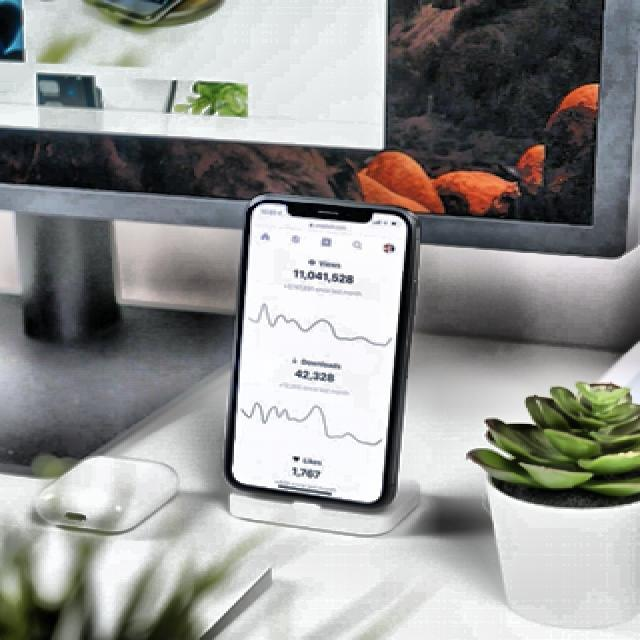Phone: (223, 198, 414, 514)
